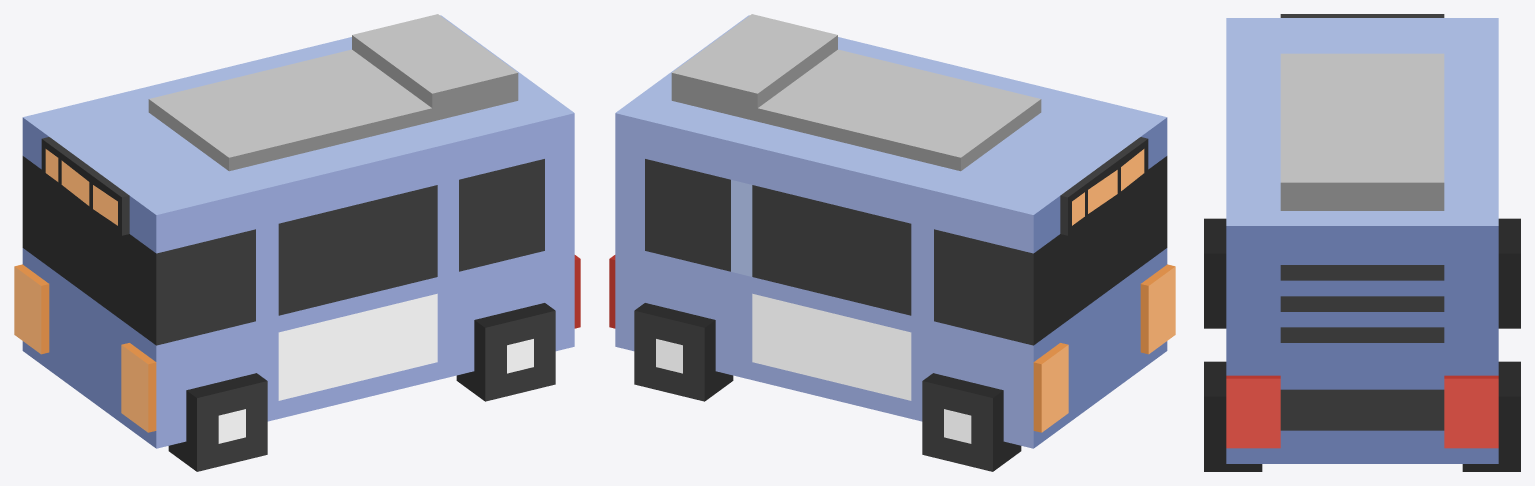
Rendered from road-bus-1.2.glb.
The picture shows the model from 3 angles, left to right: view 1: azimuth 30°, elevation 25°; view 2: azimuth 150°, elevation 25°; view 3: azimuth 270°, elevation 25°; orthographic projection.
Parts seen in each view (by area): view 1: BUS-BODY.001, BUS-WHEELS.001; view 2: BUS-BODY.001, BUS-WHEELS.001; view 3: BUS-BODY.001, BUS-WHEELS.001.
Part boxes in pixels (bbox=[...]): BUS-BODY.001: bbox=[14, 14, 580, 448]; BUS-WHEELS.001: bbox=[168, 303, 555, 471]; BUS-BODY.001: bbox=[609, 14, 1175, 448]; BUS-WHEELS.001: bbox=[634, 303, 1021, 471]; BUS-BODY.001: bbox=[1226, 14, 1498, 463]; BUS-WHEELS.001: bbox=[1204, 218, 1520, 471].
Size of the model in its own units: 1.45 by 0.9086 by 0.9007.
1 material, 1 textured.
